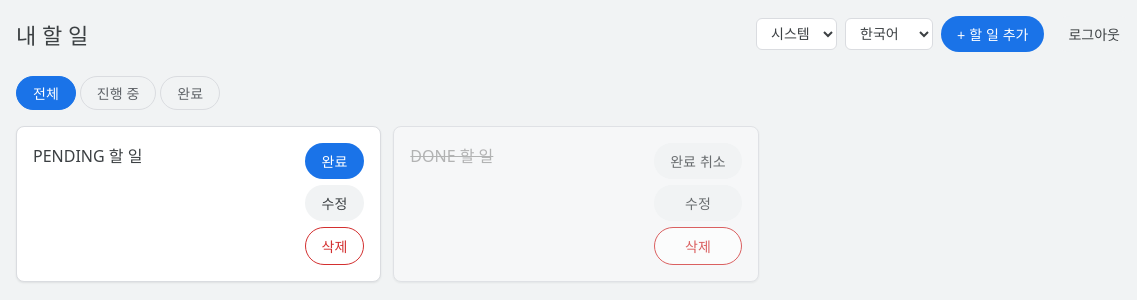
Test: TodoListPage › 진행 중 탭 클릭 시 PENDING 항목만 표시
The width and height of the screenshot is (1137, 300).
Expected: the text "PENDING 할 일" is shown, left=33, top=143, right=142, bottom=167
Click the button "진행 중": (118, 93) left=80, top=76, right=156, bottom=110
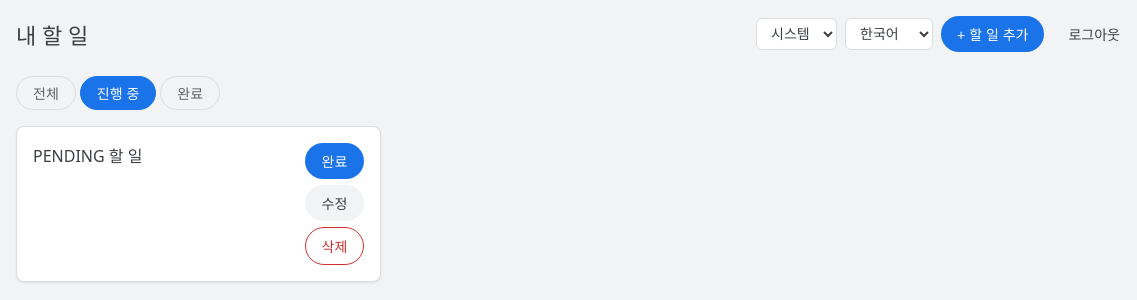
Expected: the text "PENDING 할 일" is shown, left=33, top=143, right=142, bottom=167
Expected: the text "DONE 할 일" is gone
